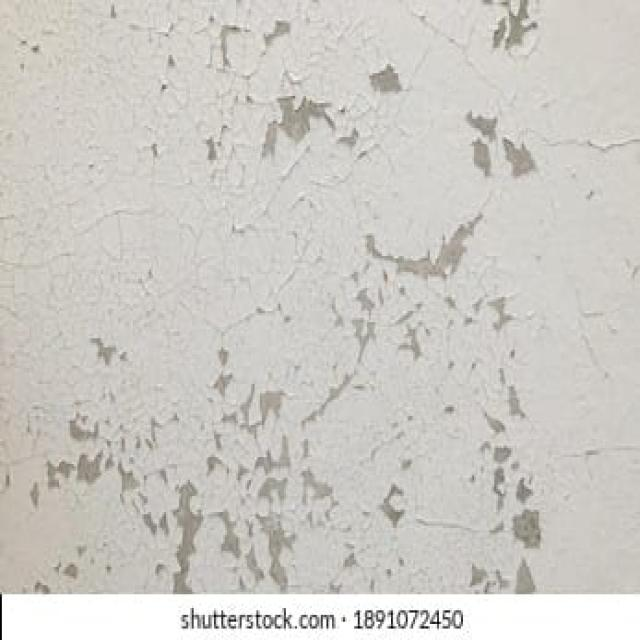paint-peeling: (15, 0, 574, 595), (197, 32, 416, 183)
